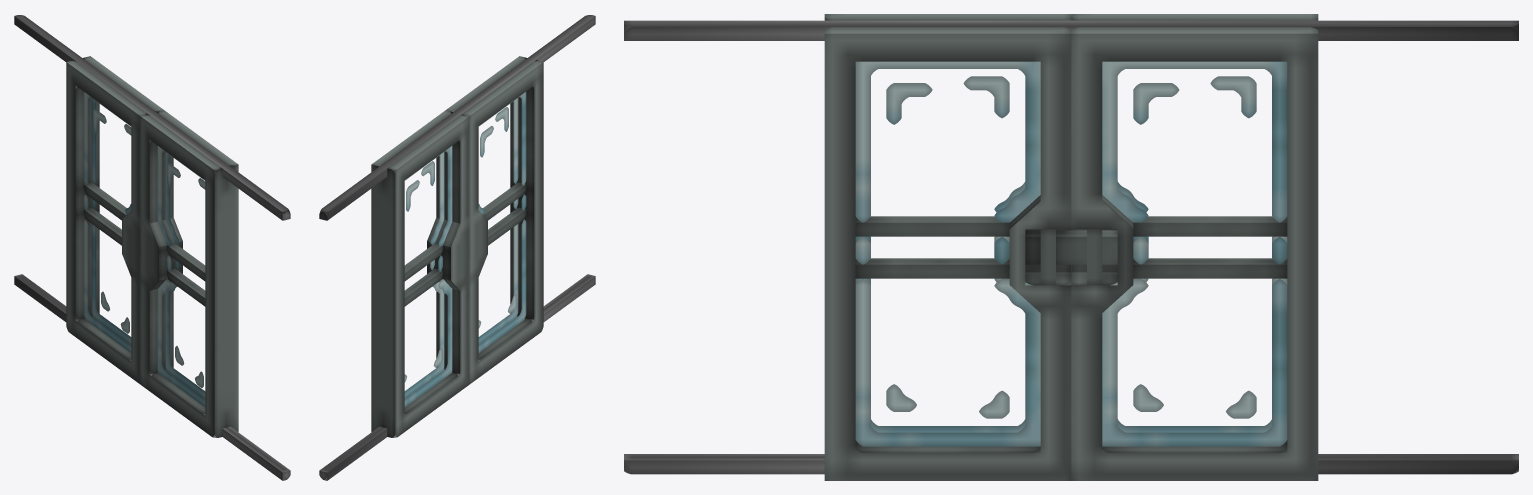
Rendered from sliding_door.obj.
The picture shows the model from 3 angles, left to right: view 1: azimuth 30°, elevation 25°; view 2: azimuth 150°, elevation 25°; view 3: azimuth 270°, elevation 25°; orthographic projection. The views are drawn at different scales.
Parts seen in each view (by area): view 1: Left, Right, Frame; view 2: Right, Left, Frame; view 3: Left, Right, Frame.
Boxes of the visible parts, box(x1,y1,x2,y2) form: Left: box(140, 110, 238, 437); Right: box(66, 56, 163, 383); Frame: box(14, 15, 290, 480); Right: box(371, 110, 469, 437); Left: box(446, 56, 543, 383); Frame: box(319, 15, 595, 480); Left: box(824, 14, 1117, 480); Right: box(1071, 14, 1318, 480); Frame: box(624, 20, 1518, 474).
Size of the model in its own units: 0.1875 by 2 by 3.62.
1 material, 1 textured.
